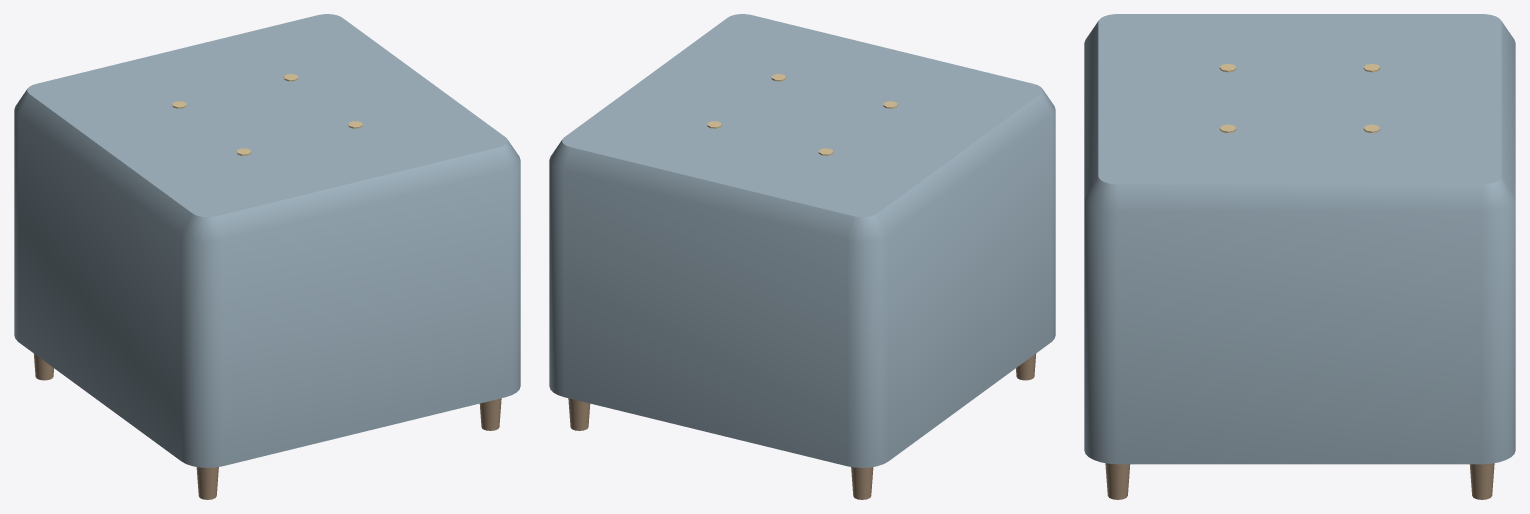
3 views of the same model, side by side, from view 1: azimuth 30°, elevation 25°; view 2: azimuth 150°, elevation 25°; view 3: azimuth 270°, elevation 25° (orthographic). The views are drawn at different scales.
Visible parts, largest first — view 1: Ghế đôn Rộng=500; Sâu=500; view 2: Ghế đôn Rộng=500; Sâu=500; view 3: Ghế đôn Rộng=500; Sâu=500.
Part boxes in pixels (<box>): Ghế đôn Rộng=500; Sâu=500: <box>14,14,520,499</box>; Ghế đôn Rộng=500; Sâu=500: <box>549,14,1055,499</box>; Ghế đôn Rộng=500; Sâu=500: <box>1084,14,1515,499</box>.
Bounding box in the file's own units: 0.514 × 0.422 × 0.514.
